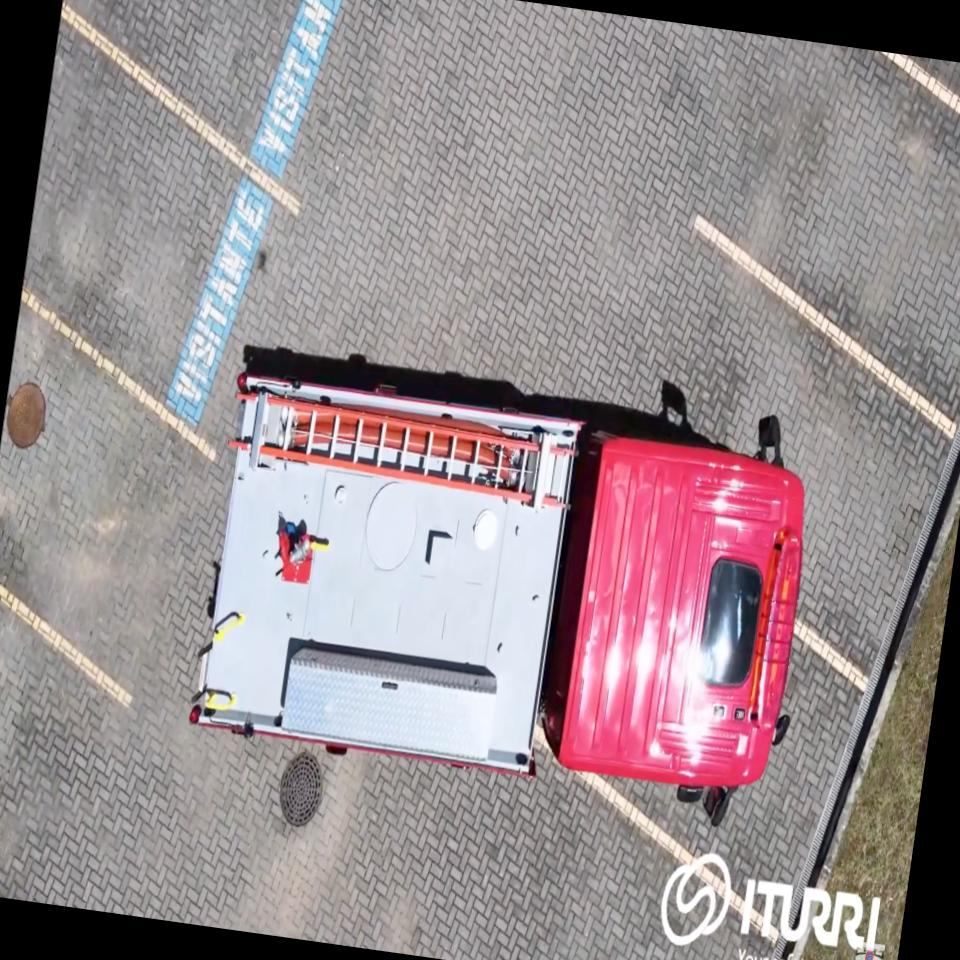viatura: (183, 342, 834, 832)
